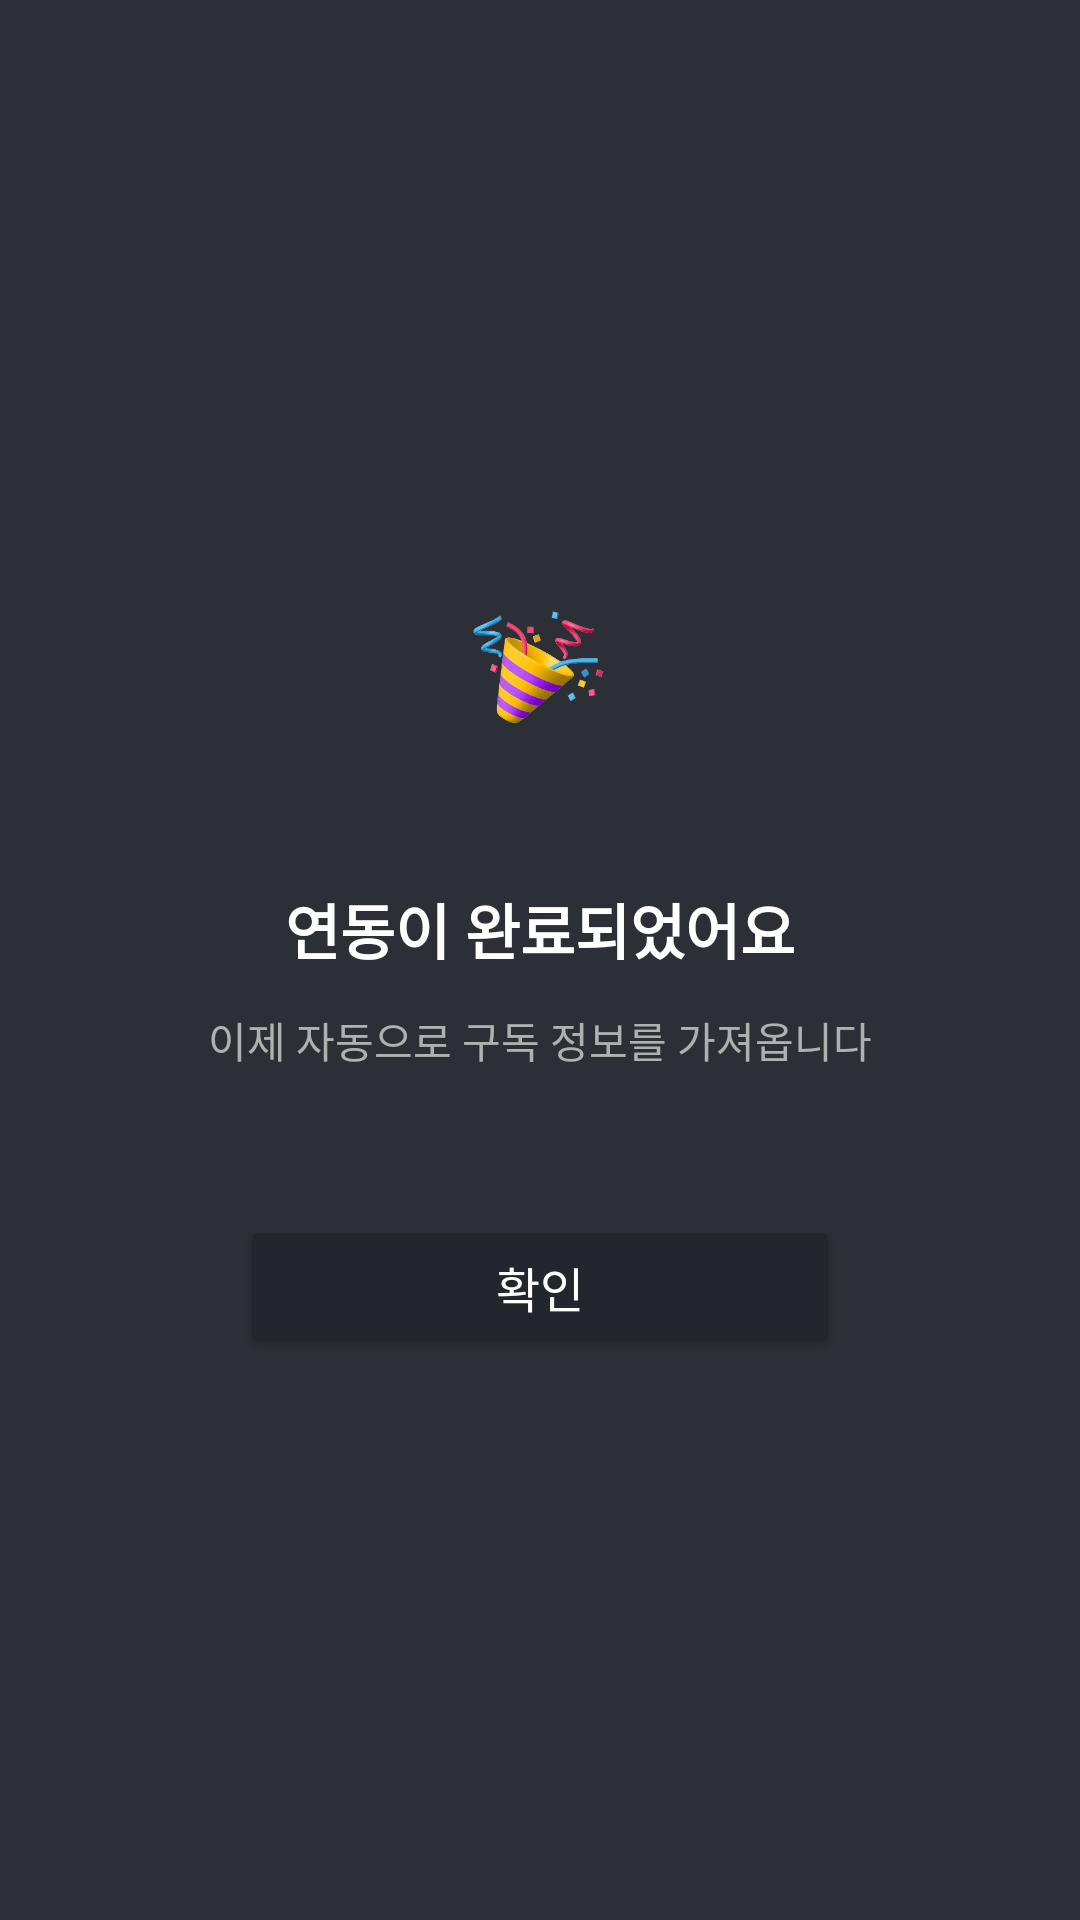

Point at icon controls on the screen. Image size 1080 × 1920, points as (x,y).
축하 아이콘: (538,667)
